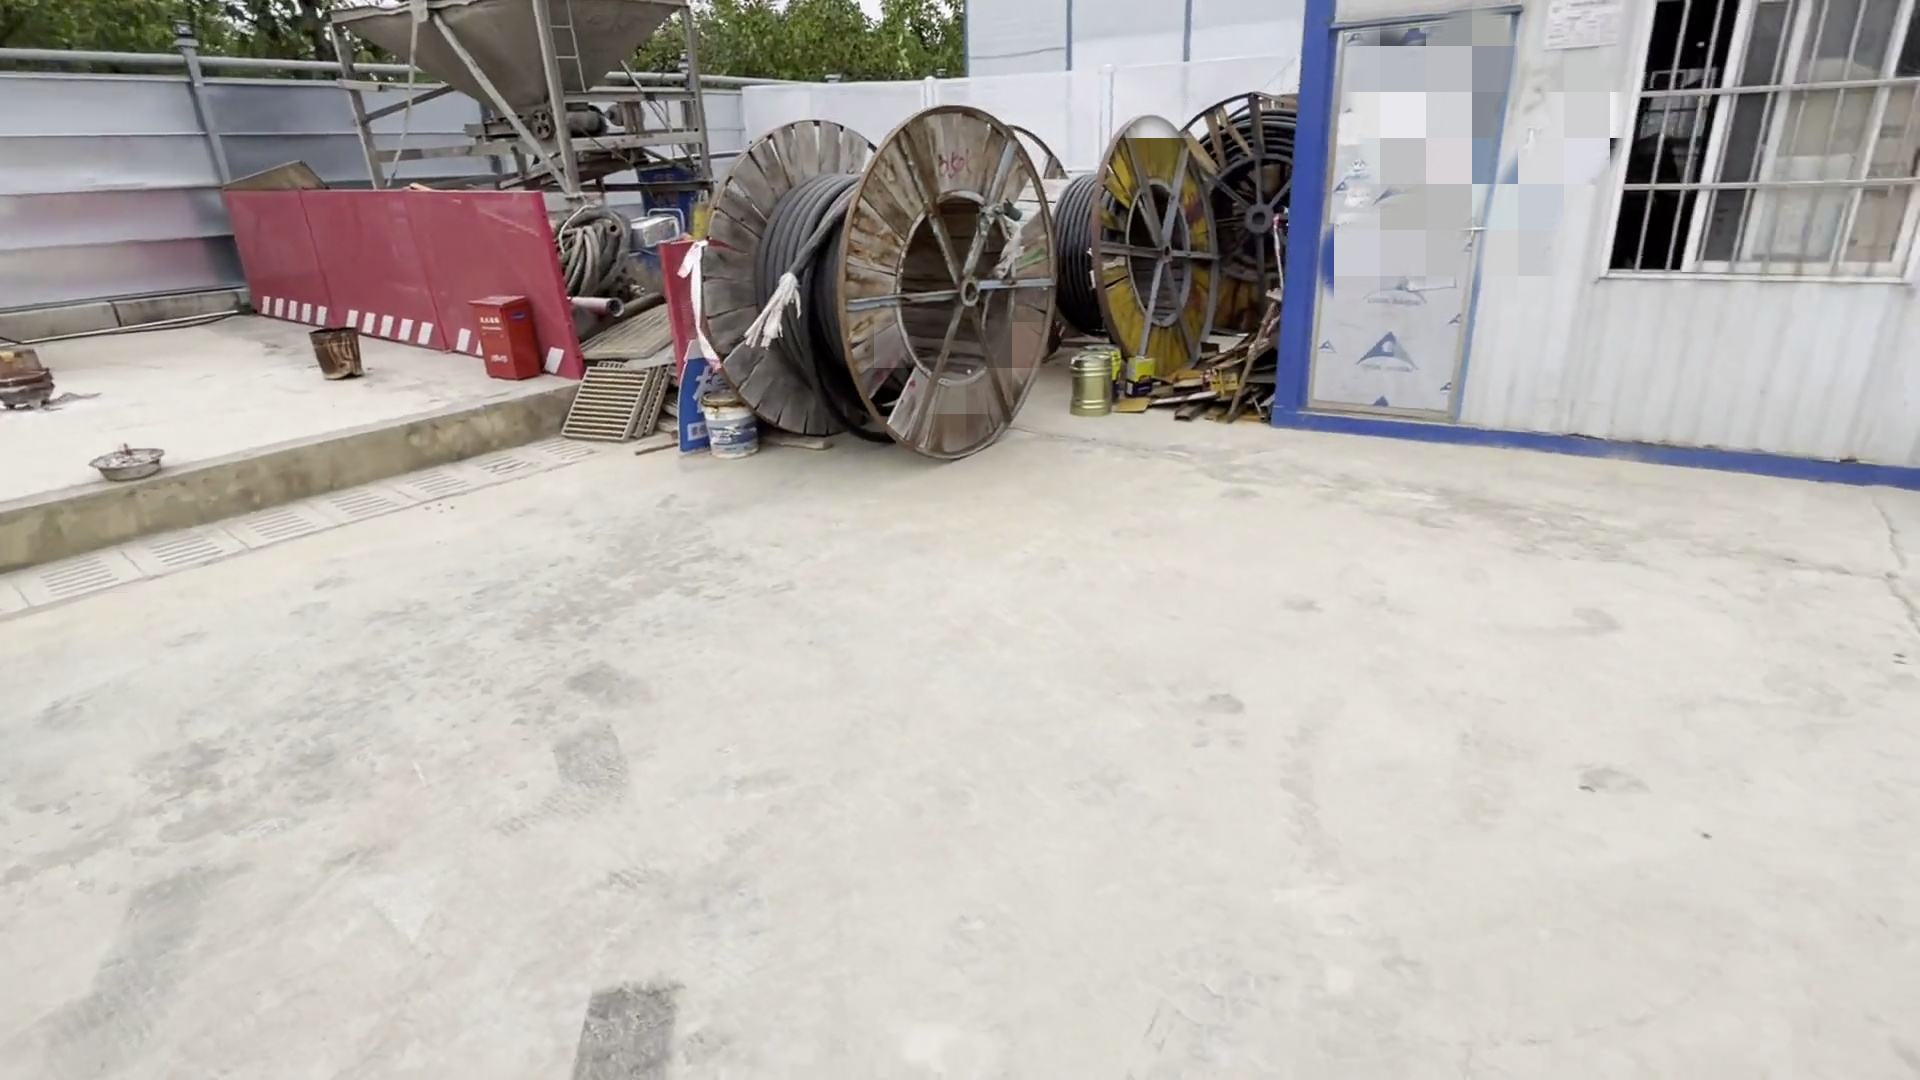fence: (212, 183, 588, 409)
